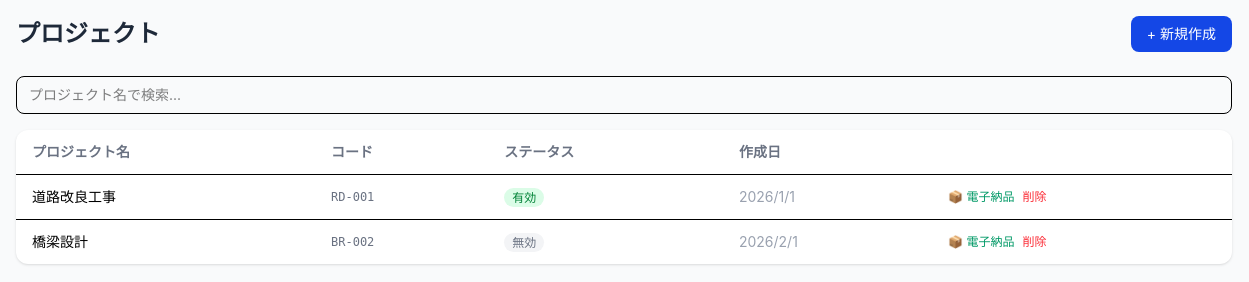
Scenario: Projects › search filter shows only matching projects
Expected: the text "道路改良工事" is shown, [16,174,315,220]
Type "道路" into the search field labelled "プロジェクト名で検索".
click(624, 95); type("道路")  # box [16,76,1232,114]
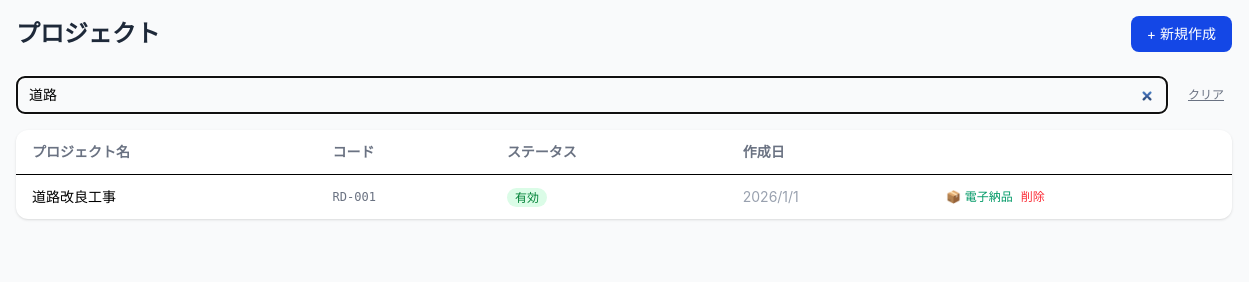
Expected: the text "道路改良工事" is shown, [16,174,317,219]
Expected: the text "橋梁設計" is gone
